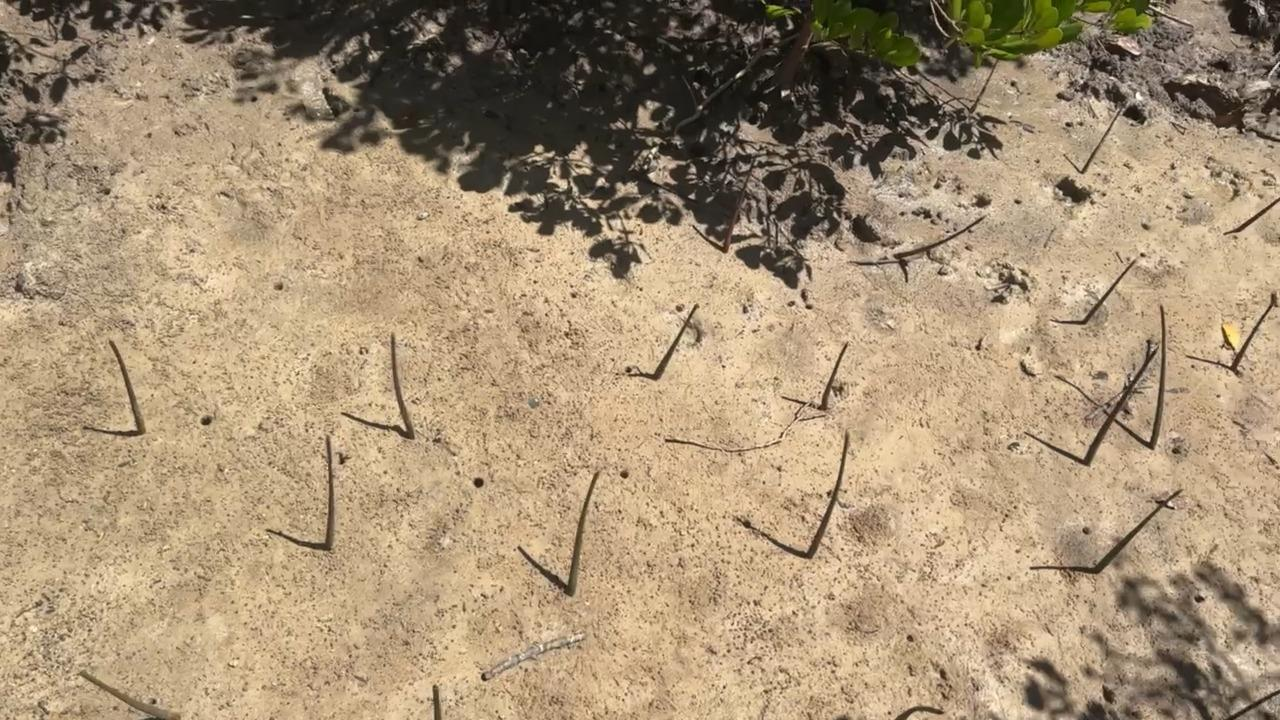Tree: (1082, 344, 1159, 467), (1093, 487, 1184, 575), (805, 429, 850, 560), (78, 669, 181, 720), (565, 470, 600, 597), (893, 215, 987, 259), (1082, 258, 1139, 325), (108, 340, 147, 436), (652, 303, 700, 380), (722, 158, 756, 254), (1230, 302, 1274, 372), (1081, 104, 1124, 175), (1147, 304, 1167, 450), (390, 330, 415, 439), (821, 342, 850, 410), (323, 434, 339, 552), (969, 58, 999, 113), (1237, 197, 1280, 232), (432, 683, 443, 720), (914, 705, 945, 716)
